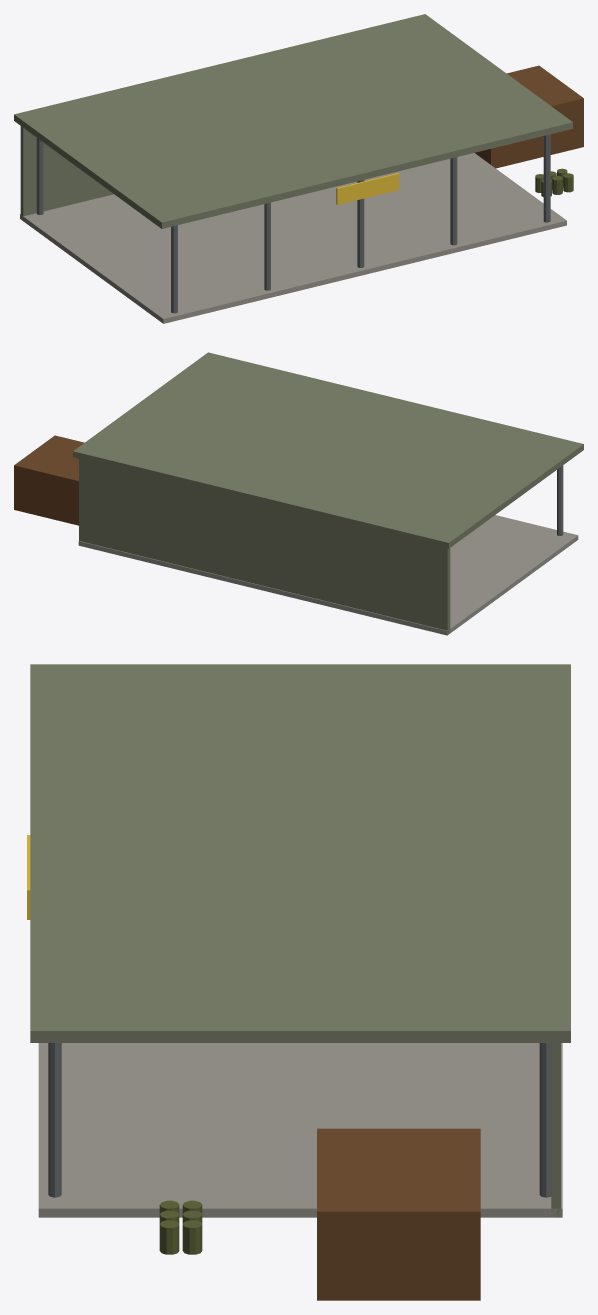
File: garagem.glb
The picture shows the model from 3 angles, top to bottom: view 1: azimuth 30°, elevation 25°; view 2: azimuth 150°, elevation 25°; view 3: azimuth 270°, elevation 25°; orthographic projection. The views are drawn at different scales.
Visible parts, largest first — view 1: Estrutura.002; view 2: Estrutura.002; view 3: Estrutura.002.
Part boxes in pixels (x1=…): Estrutura.002: x1=14, y1=14, x2=583, y2=323; Estrutura.002: x1=14, y1=352, x2=583, y2=635; Estrutura.002: x1=27, y1=664, x2=570, y2=1300.
Bounding box in the file's own units: 32.25 × 6.4 × 16.6.
